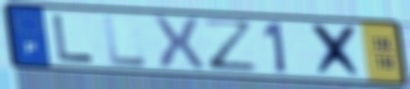1: (260, 21, 290, 76)
L: (101, 13, 151, 68), (50, 13, 97, 64)
X: (308, 22, 367, 80), (149, 14, 208, 71)
Z: (198, 16, 262, 73)
